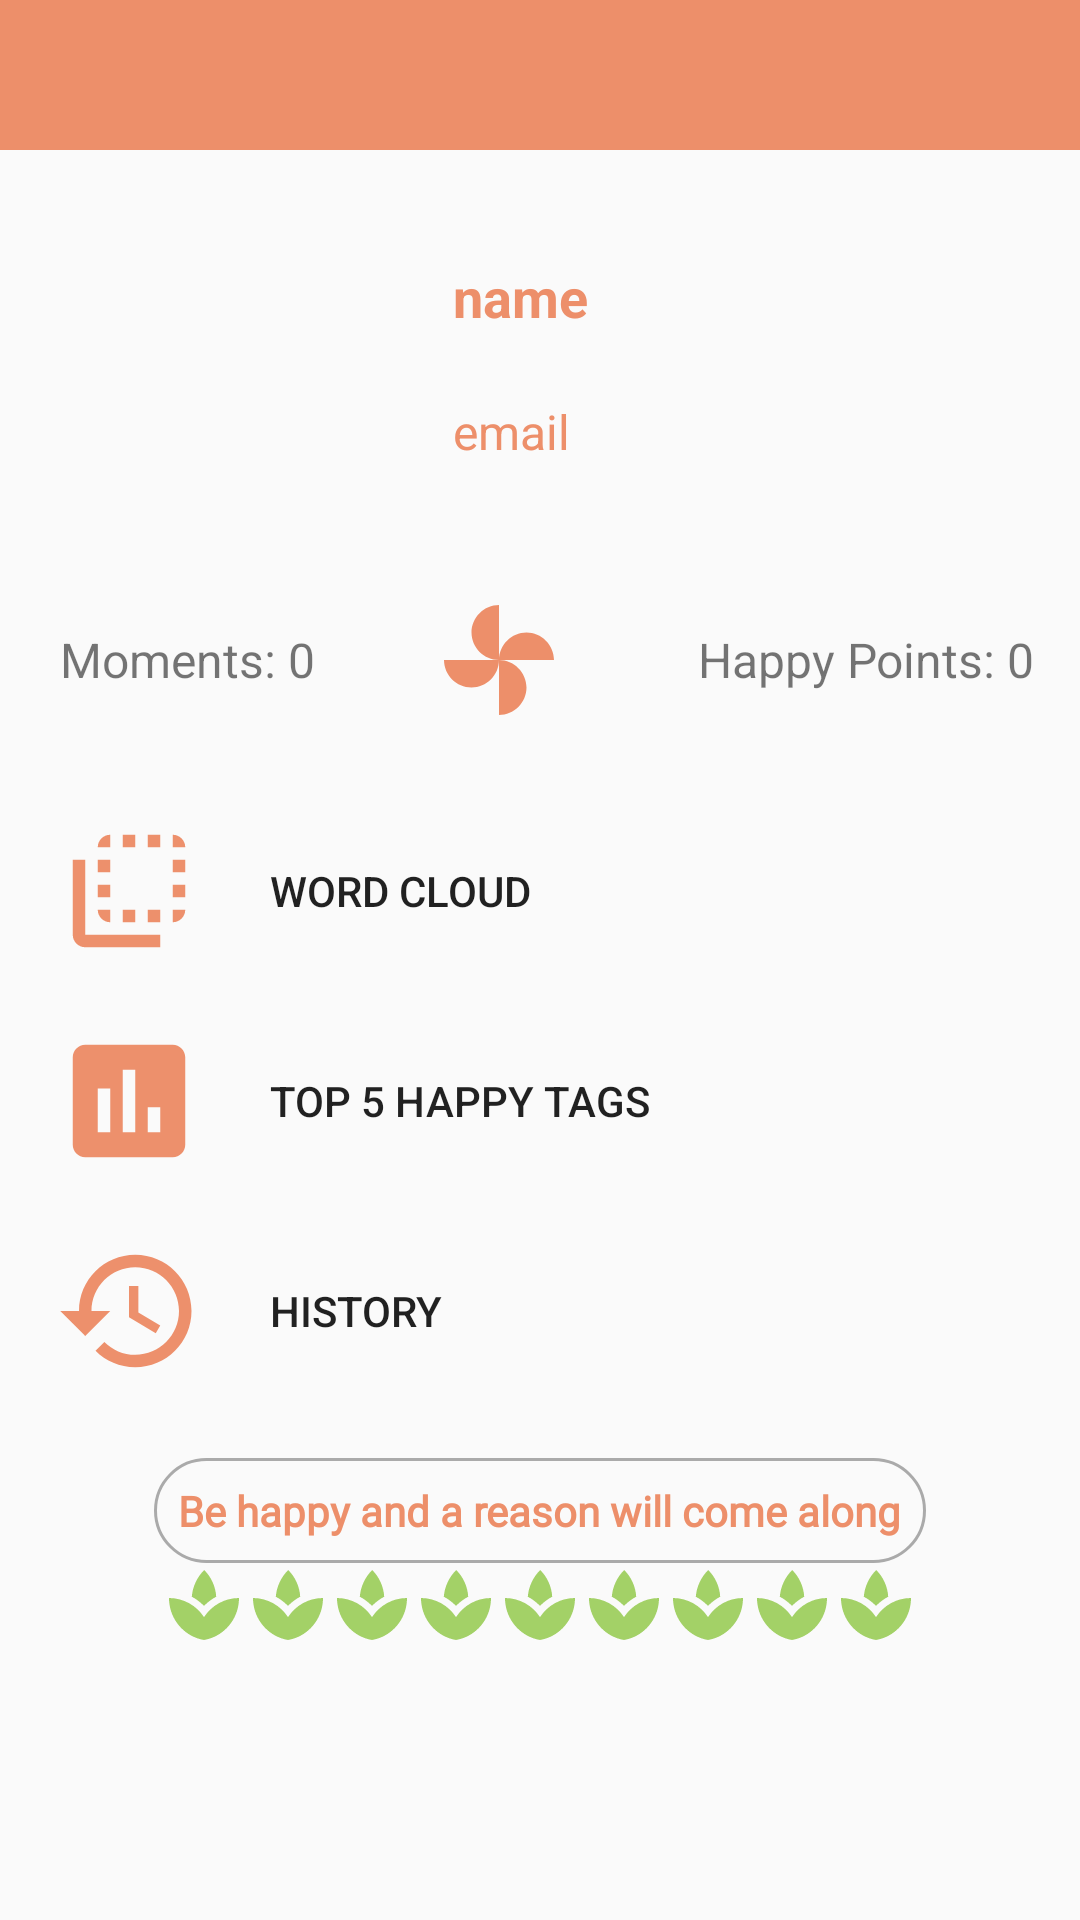

Screen size 1080w x 1920h. Icon name, then its center in pixels as [x,y]:
chart: [129,1101]
